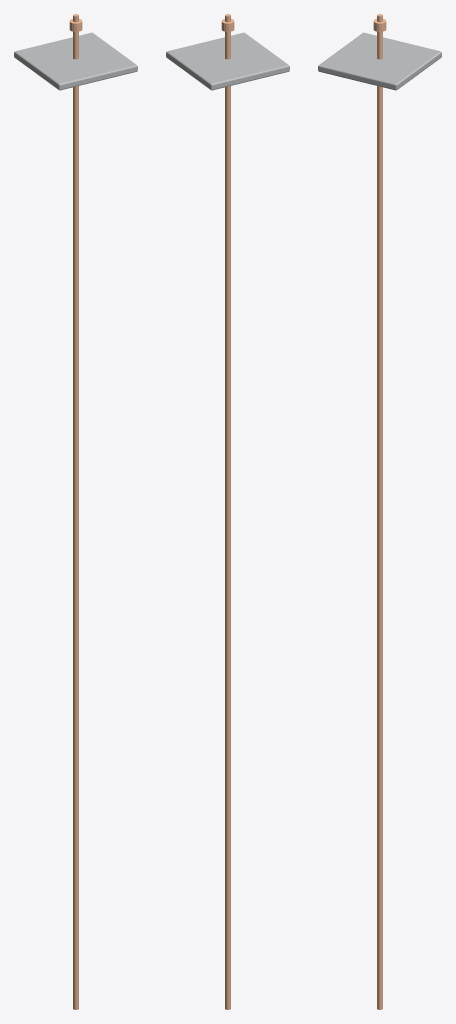
File: generic-ground-rod-3000x16.glb
3 renders of one model, left to right at view 1: azimuth 30°, elevation 25°; view 2: azimuth 210°, elevation 25°; view 3: azimuth 330°, elevation 25°, orthographic.
Visible parts, largest first — view 1: rod, pit; view 2: rod, pit; view 3: rod, pit.
Boxes of the visible parts, box(x1,y1,x2,y2) form: rod: box(73, 14, 78, 1009); pit: box(14, 32, 137, 90); rod: box(225, 14, 230, 1009); pit: box(166, 32, 289, 90); rod: box(377, 14, 382, 1009); pit: box(318, 32, 441, 90).
Bounding box in the file's own units: 0.25 × 3 × 0.25.
